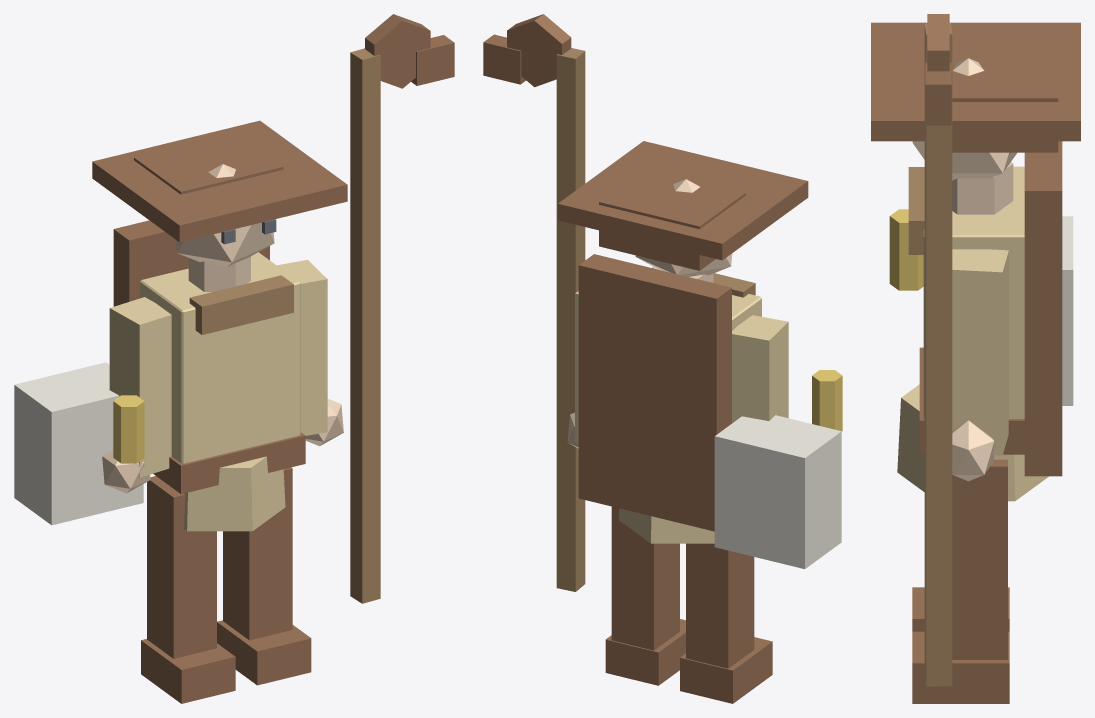
The model's file is npc_shepherd.glb.
3 views of the same model, side by side, from view 1: azimuth 30°, elevation 25°; view 2: azimuth 150°, elevation 25°; view 3: azimuth 270°, elevation 25° (orthographic). The views are drawn at different scales.
Parts seen in each view (by area): view 1: torso.005; view 2: torso.005; view 3: torso.005.
Part boxes in pixels (box(x1,y1,x2,y2)): torso.005: box(14, 14, 454, 703); torso.005: box(483, 14, 842, 703); torso.005: box(871, 14, 1080, 703).
Bounding box in the file's own units: 1.4 × 2.2 × 0.56.
